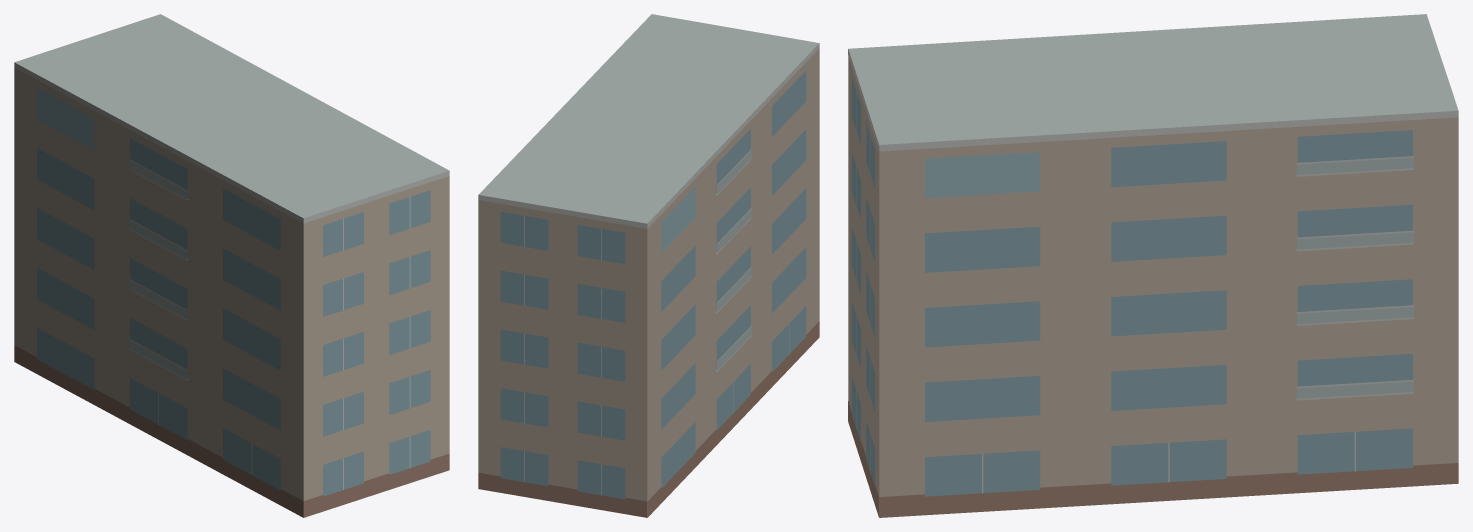
The model's file is survey-upis-32716165.glb.
3 renders of one model, left to right at view 1: azimuth 30°, elevation 25°; view 2: azimuth 150°, elevation 25°; view 3: azimuth 270°, elevation 25°, orthographic. The views are drawn at different scales.
Visible parts, largest first — view 1: survey-upis-32716165.tmp; view 2: survey-upis-32716165.tmp; view 3: survey-upis-32716165.tmp.
Part boxes in pixels (x1=…): survey-upis-32716165.tmp: x1=14, y1=14, x2=449, y2=517; survey-upis-32716165.tmp: x1=478, y1=14, x2=819, y2=517; survey-upis-32716165.tmp: x1=848, y1=14, x2=1458, y2=517.
Size of the model in its own units: 10.55 by 14 by 20.78.
